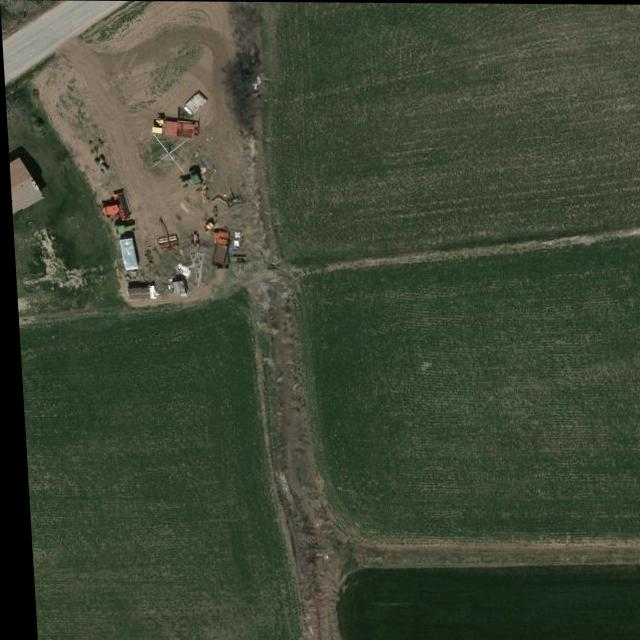vehicle: (207, 229, 231, 269), (178, 92, 209, 116), (121, 285, 153, 299)
